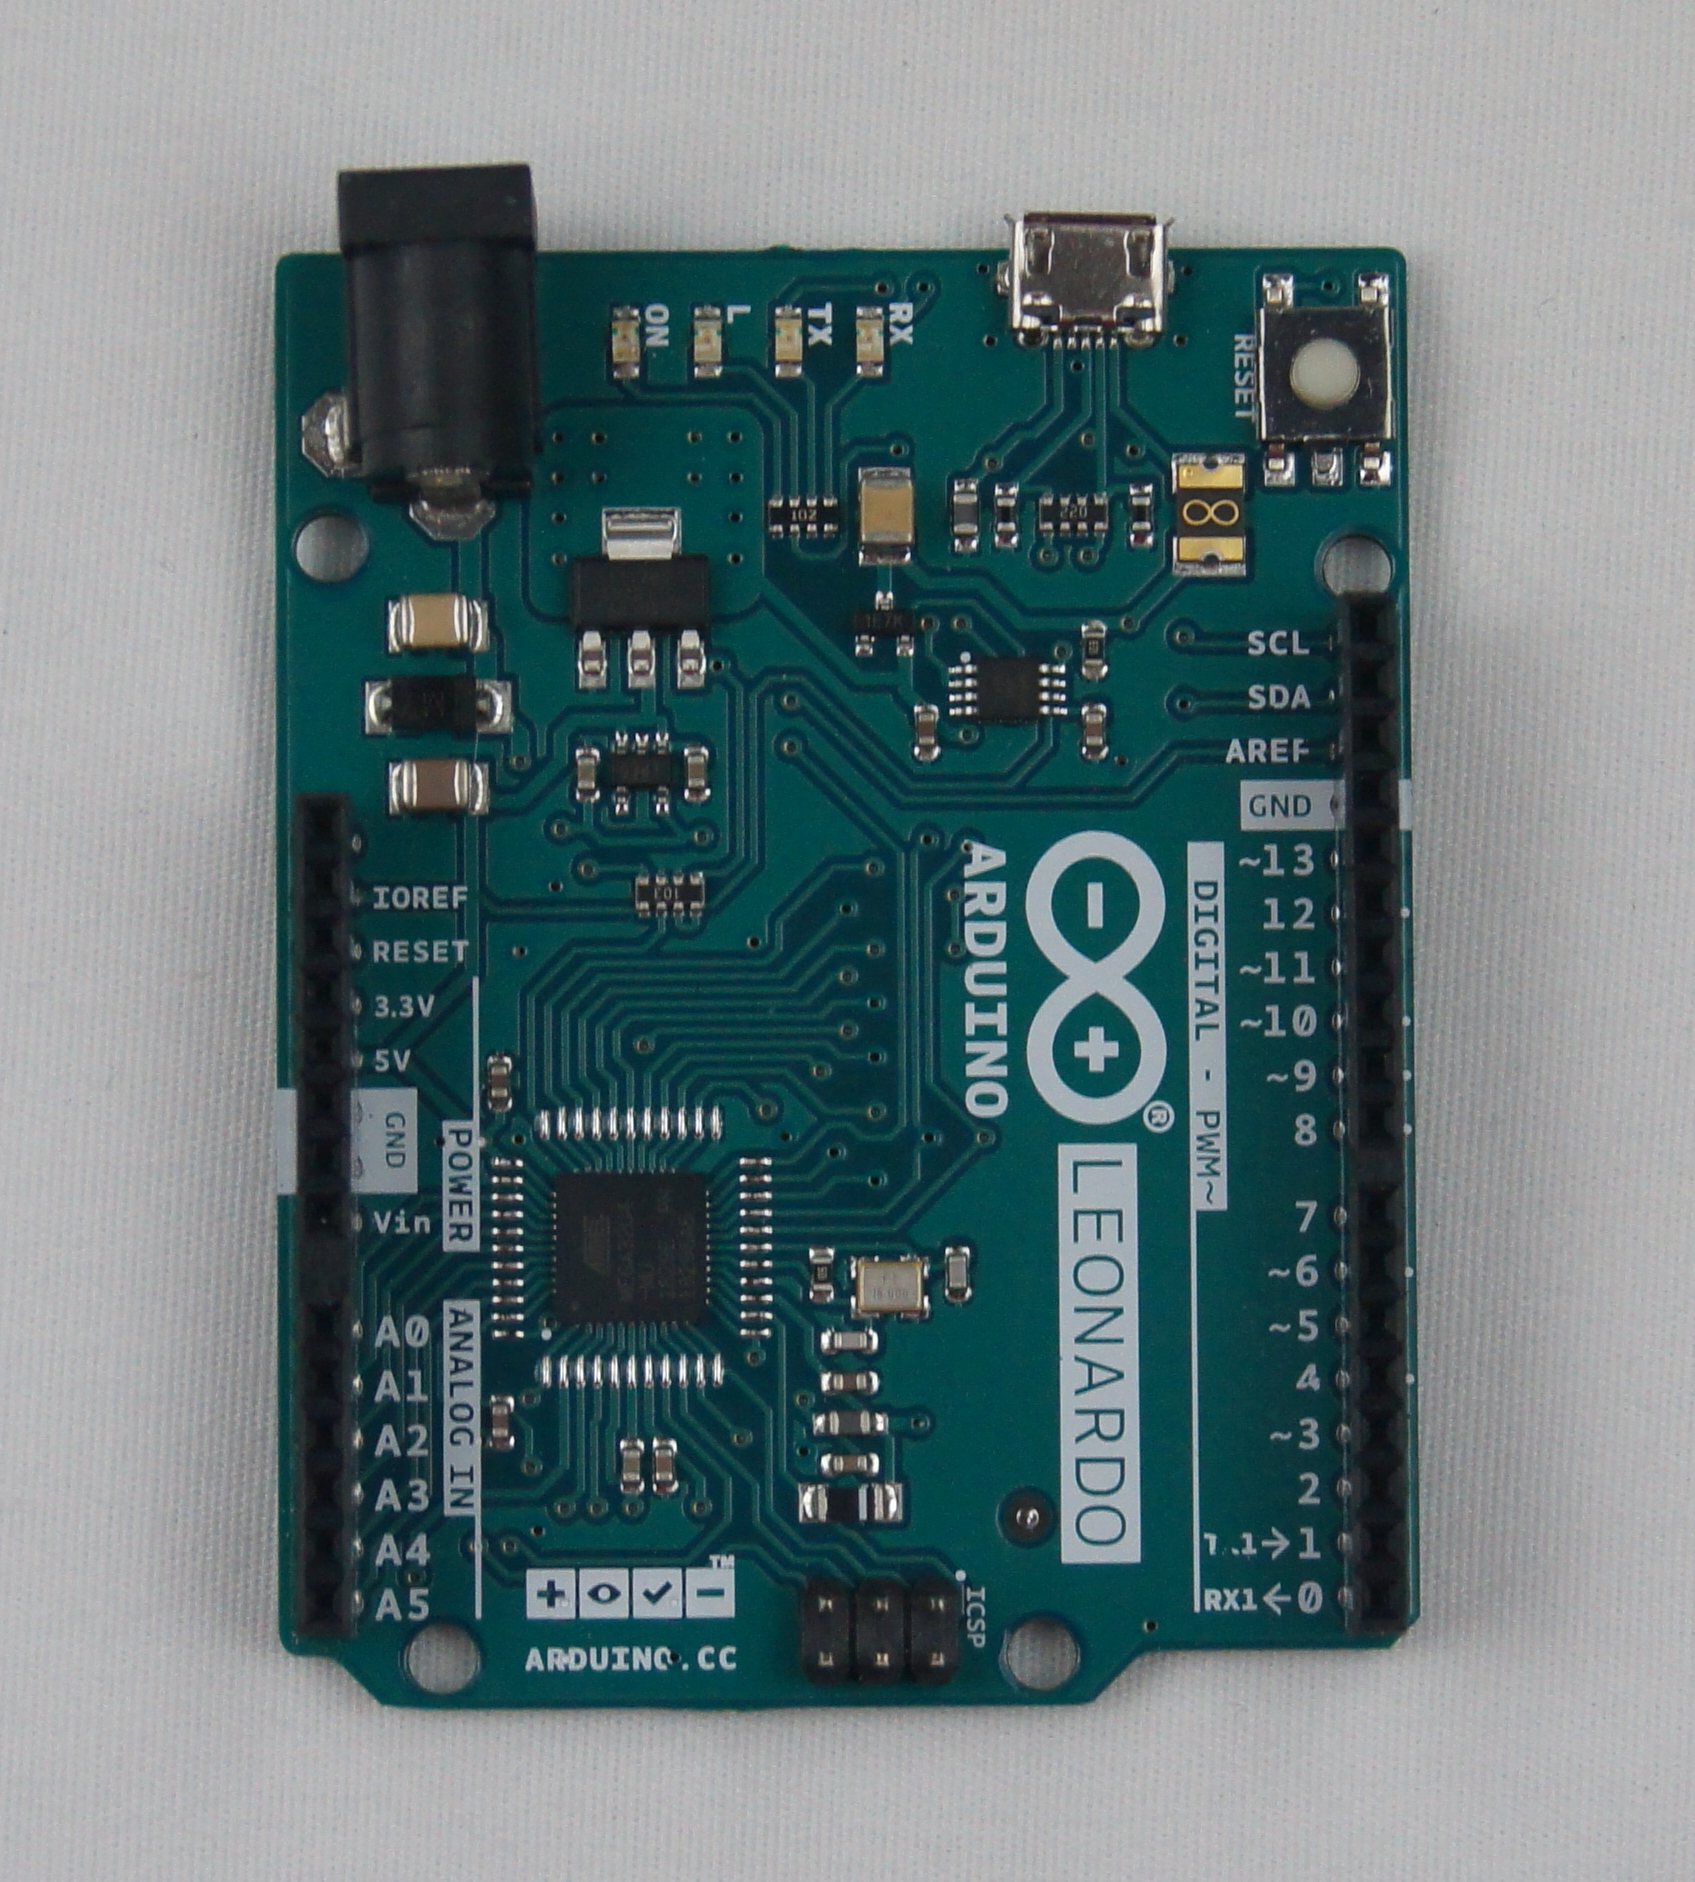kondensator: (849, 465, 915, 566), (388, 594, 492, 655), (383, 754, 483, 813), (947, 475, 980, 556), (937, 1242, 975, 1303), (906, 700, 942, 763), (483, 1051, 515, 1111), (1078, 704, 1113, 758), (568, 746, 599, 804), (820, 1448, 883, 1476), (648, 1435, 676, 1496), (816, 1368, 880, 1394), (681, 746, 710, 799), (615, 1435, 641, 1493), (488, 1393, 514, 1447)
